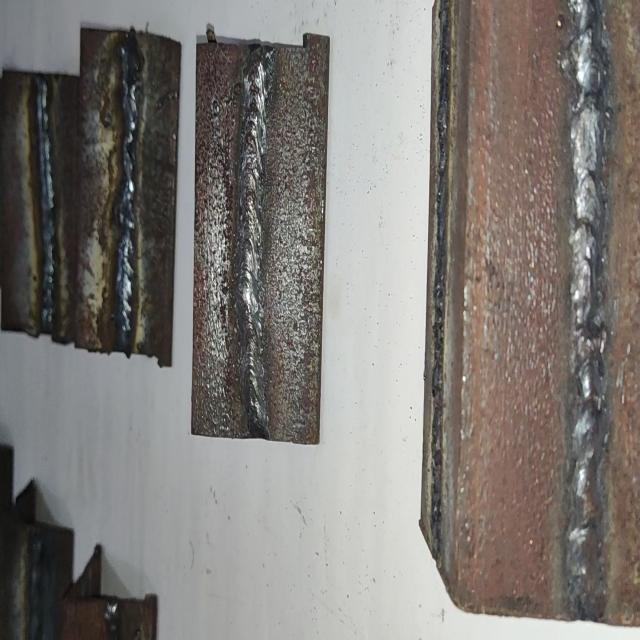Welding Line: (570, 2, 605, 608), (239, 46, 273, 426), (112, 38, 142, 342), (34, 76, 59, 333)
Workpiece: (412, 0, 640, 640), (188, 31, 332, 448), (78, 18, 184, 370), (0, 68, 83, 340)
